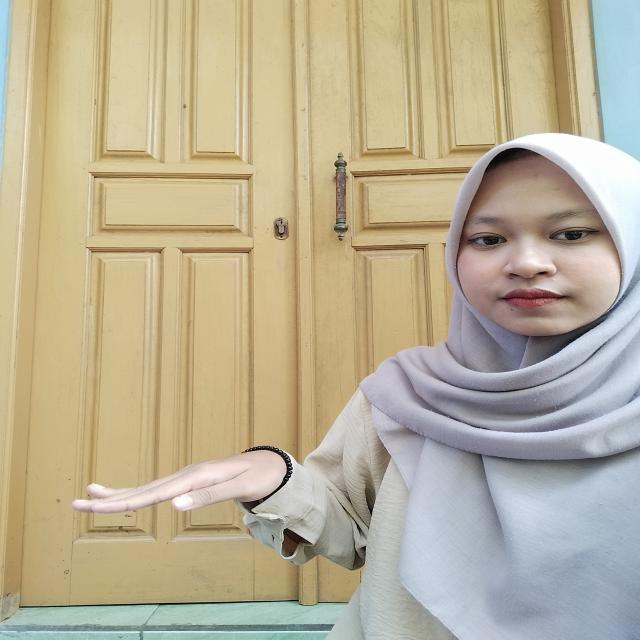adik: (52, 422, 310, 563)
